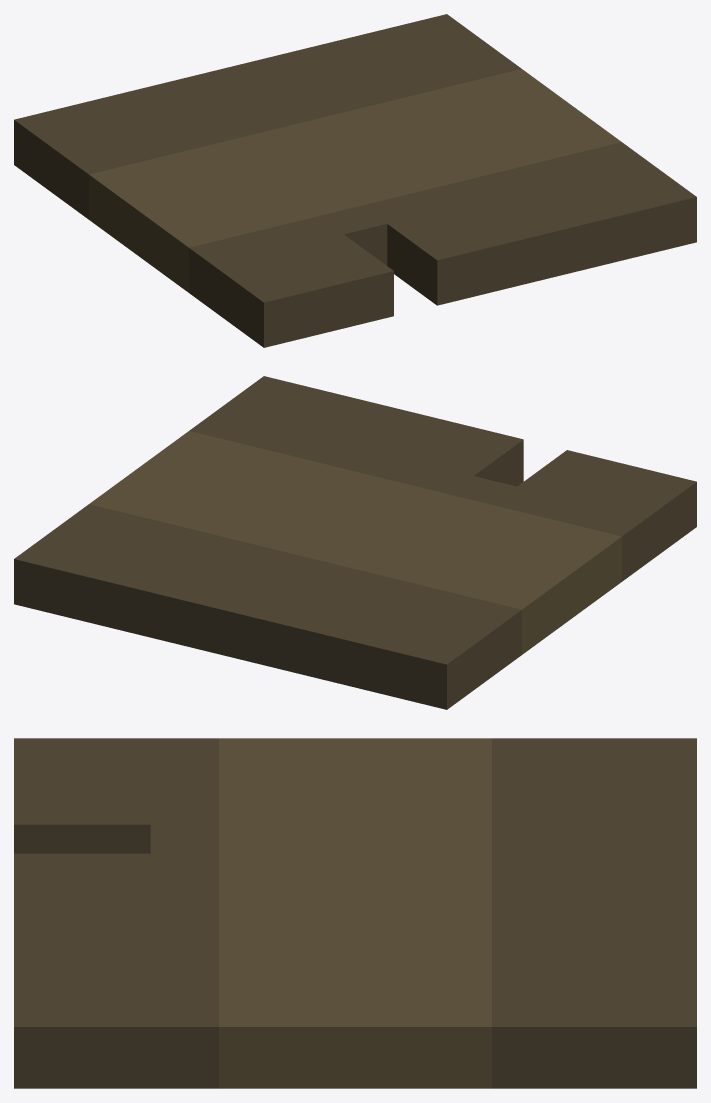
Rendered from scaffold_top_2.DAE.
3 renders of one model, top to bottom at view 1: azimuth 30°, elevation 25°; view 2: azimuth 150°, elevation 25°; view 3: azimuth 270°, elevation 25°, orthographic. The views are drawn at different scales.
Visible parts, largest first — view 1: scaffold_top_2; view 2: scaffold_top_2; view 3: scaffold_top_2.
Part boxes in pixels (x1,y1,x2,y2): scaffold_top_2: (14, 14, 696, 347); scaffold_top_2: (14, 376, 696, 709); scaffold_top_2: (14, 738, 696, 1088).
Bounding box in the file's own units: 10 × 10 × 1.
1 material, 1 textured.
